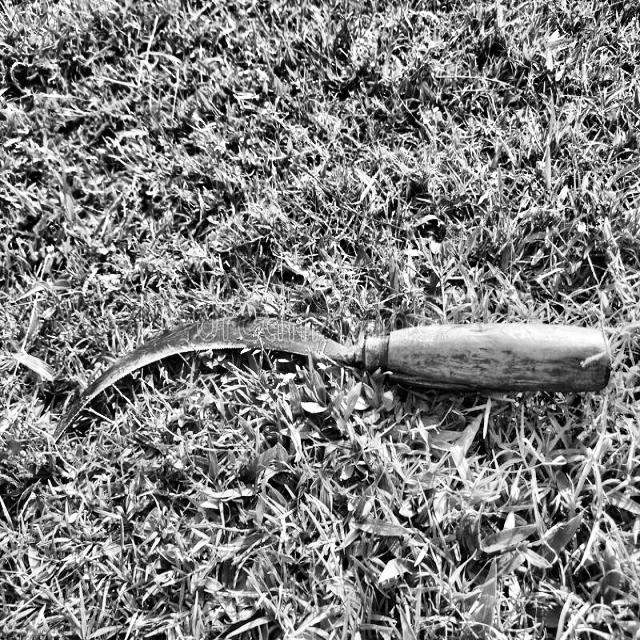celurit: (48, 306, 621, 441)
